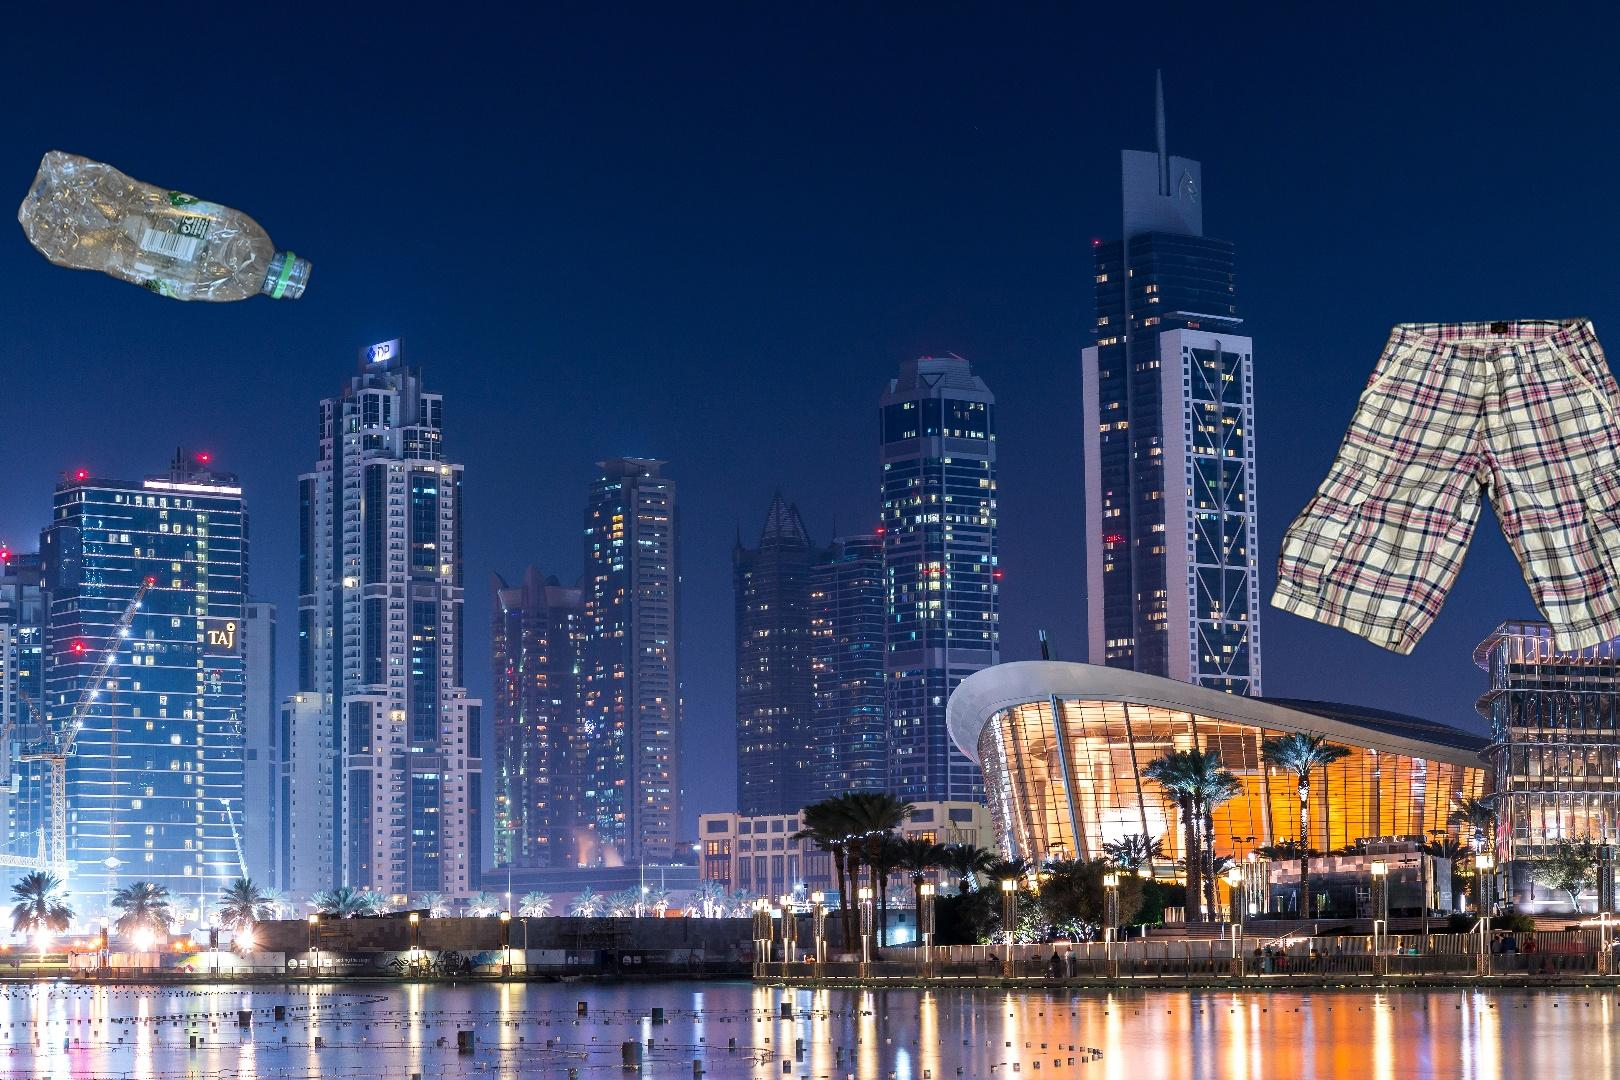clothes: (1264, 312, 1620, 661)
plastic-bottles: (14, 145, 317, 307)
